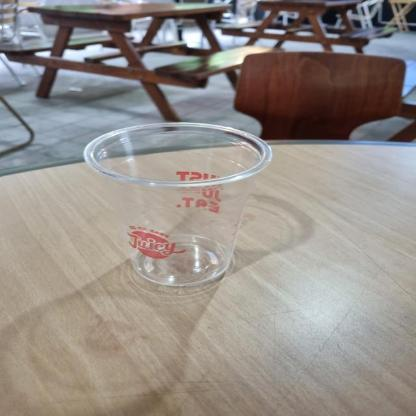Plastic Cup: (78, 116, 282, 288)
